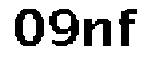0: (13, 6, 44, 51)
9: (49, 2, 80, 52)
f: (115, 5, 142, 49)
n: (80, 13, 113, 49)
